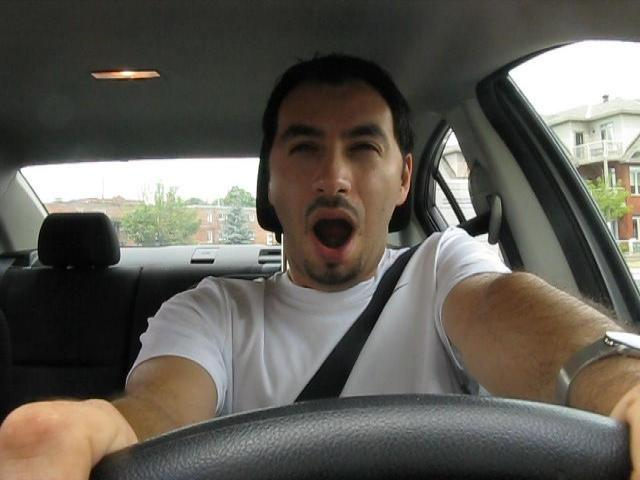eye_open: (344, 138, 385, 160), (284, 138, 324, 160)
face: (269, 102, 400, 283)
mouth_open: (306, 208, 363, 260)
